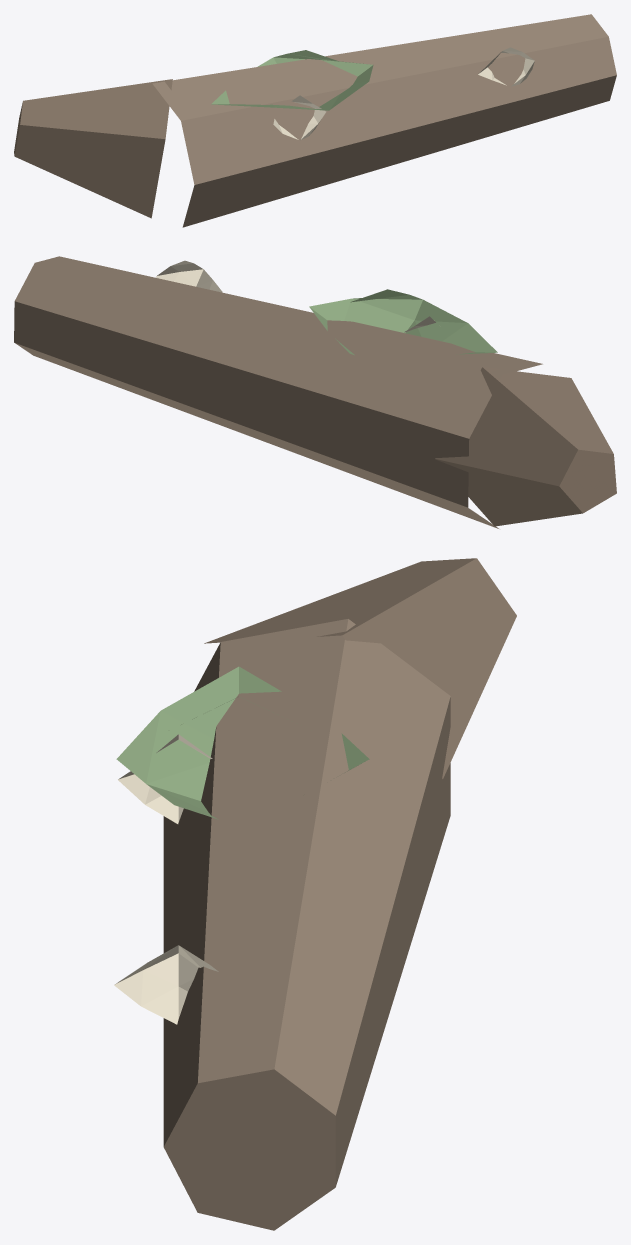
File: log_v06.glb
3 views of the same model, one above another, from view 1: azimuth 30°, elevation 25°; view 2: azimuth 150°, elevation 25°; view 3: azimuth 270°, elevation 25° (orthographic). The views are drawn at different scales.
Visible parts, largest first — view 1: lod0; view 2: lod0; view 3: lod0.
Boxes of the visible parts, x1,y1,x2,y2 form: lod0: (14, 14, 616, 227); lod0: (14, 256, 616, 528); lod0: (114, 558, 516, 1230).
Size of what is drawn, in the model's own units: 2.32 by 0.639 by 0.7469.
